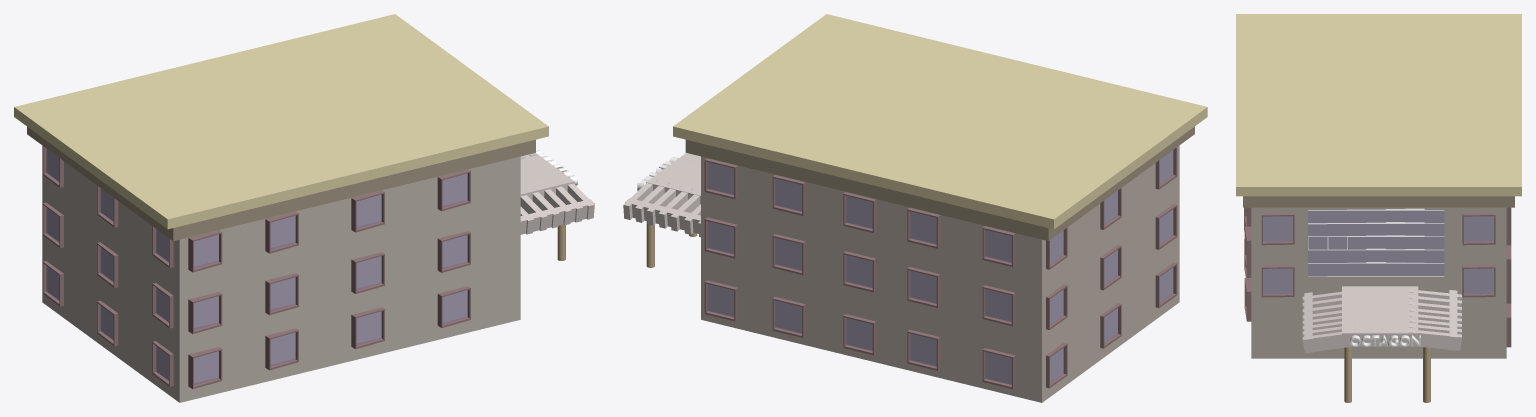
Rendered from OCTAGON.glb.
3 renders of one model, left to right at view 1: azimuth 30°, elevation 25°; view 2: azimuth 150°, elevation 25°; view 3: azimuth 270°, elevation 25°, orthographic. The views are drawn at different scales.
Visible parts, largest first — view 1: Cube, Cube.002, Cube.001, Cube.040, Cube.031, Cube.035, Cube.027, Cube.036, Cube.028, Cube.032, Cube.029, Cube.037 (+13 smaller); view 2: Cube, Cube.002, Cube.001, Cube.040, Cube.008, Cube.011, Cube.015, Cube.017, Cube.003, Cube.004, Cube.006, Cube.007 (+16 smaller); view 3: Cube.002, Cube, Plane.001, Cube.040, Cube.001, Cube.042, Cube.043, Cube.039, Cube.041, Text, Cylinder, Cylinder.001 (+4 smaller).
Part boxes in pixels (left/top/right/bottom): Cube: left=42, top=145, right=520, bottom=402; Cube.002: left=14, top=14, right=548, bottom=229; Cube.001: left=27, top=126, right=535, bottom=241; Cube.040: left=520, top=153, right=594, bottom=234; Cube.031: left=188, top=292, right=222, bottom=333; Cube.035: left=188, top=347, right=222, bottom=389; Cube.027: left=188, top=230, right=222, bottom=272; Cube.036: left=265, top=328, right=298, bottom=370; Cube.028: left=265, top=211, right=298, bottom=253; Cube.032: left=265, top=273, right=298, bottom=315; Cube.029: left=351, top=190, right=384, bottom=232; Cube.037: left=351, top=307, right=384, bottom=349; Cube: left=701, top=145, right=1179, bottom=402; Cube.002: left=673, top=14, right=1207, bottom=229; Cube.001: left=685, top=126, right=1194, bottom=240; Cube.040: left=623, top=153, right=700, bottom=237; Cube.008: left=704, top=280, right=737, bottom=321; Cube.011: left=907, top=330, right=940, bottom=370; Cube.015: left=843, top=251, right=876, bottom=292; Cube.017: left=982, top=285, right=1015, bottom=326; Cube.003: left=704, top=158, right=737, bottom=199; Cube.004: left=772, top=175, right=805, bottom=215; Cube.006: left=907, top=207, right=940, bottom=248; Cube.007: left=982, top=226, right=1015, bottom=266; Cube.002: left=1236, top=14, right=1521, bottom=196; Cube: left=1251, top=207, right=1506, bottom=358; Plane.001: left=1308, top=208, right=1444, bottom=276; Cube.040: left=1302, top=286, right=1461, bottom=353; Cube.001: left=1243, top=196, right=1514, bottom=207; Cube.042: left=1462, top=265, right=1495, bottom=297; Cube.043: left=1261, top=265, right=1294, bottom=297; Cube.039: left=1462, top=213, right=1495, bottom=245; Cube.041: left=1261, top=213, right=1294, bottom=245; Text: left=1350, top=335, right=1420, bottom=346; Cylinder: left=1344, top=347, right=1351, bottom=402; Cylinder.001: left=1423, top=347, right=1430, bottom=402.
Bounding box in the file's own units: 22.05 × 8.7 × 12.44.
